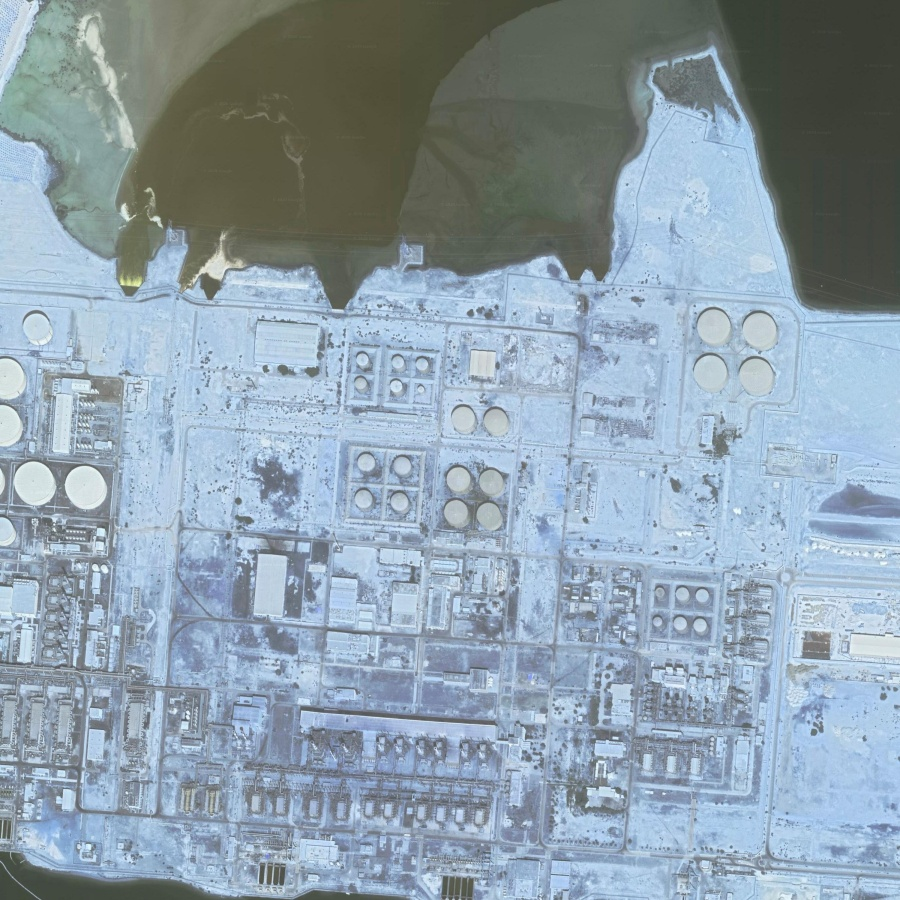PowerPlant: (227, 316, 770, 833)
